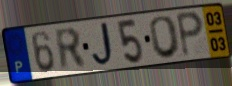5: (114, 17, 146, 66)
6: (30, 30, 56, 75)
J: (91, 20, 118, 70)
O: (148, 14, 183, 61)
P: (174, 10, 205, 60)
R: (52, 26, 89, 73)
